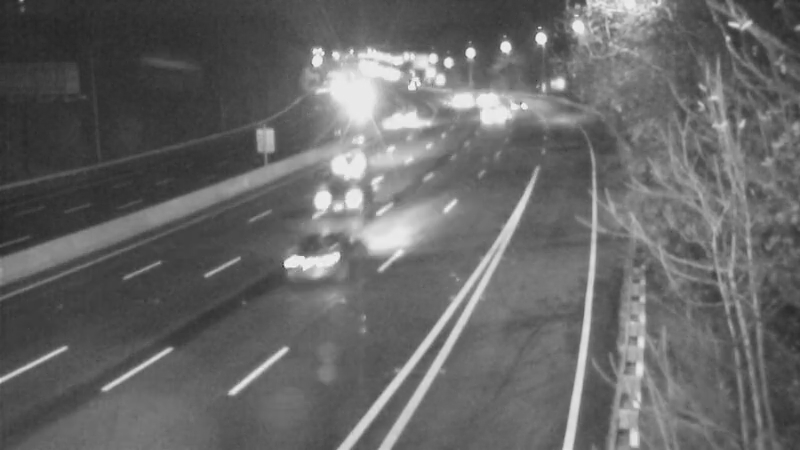vehicle: (304, 124, 384, 204), (311, 163, 391, 243), (287, 224, 367, 304), (439, 79, 489, 129), (460, 77, 510, 127), (496, 81, 546, 131), (467, 89, 517, 139), (368, 93, 418, 143)
